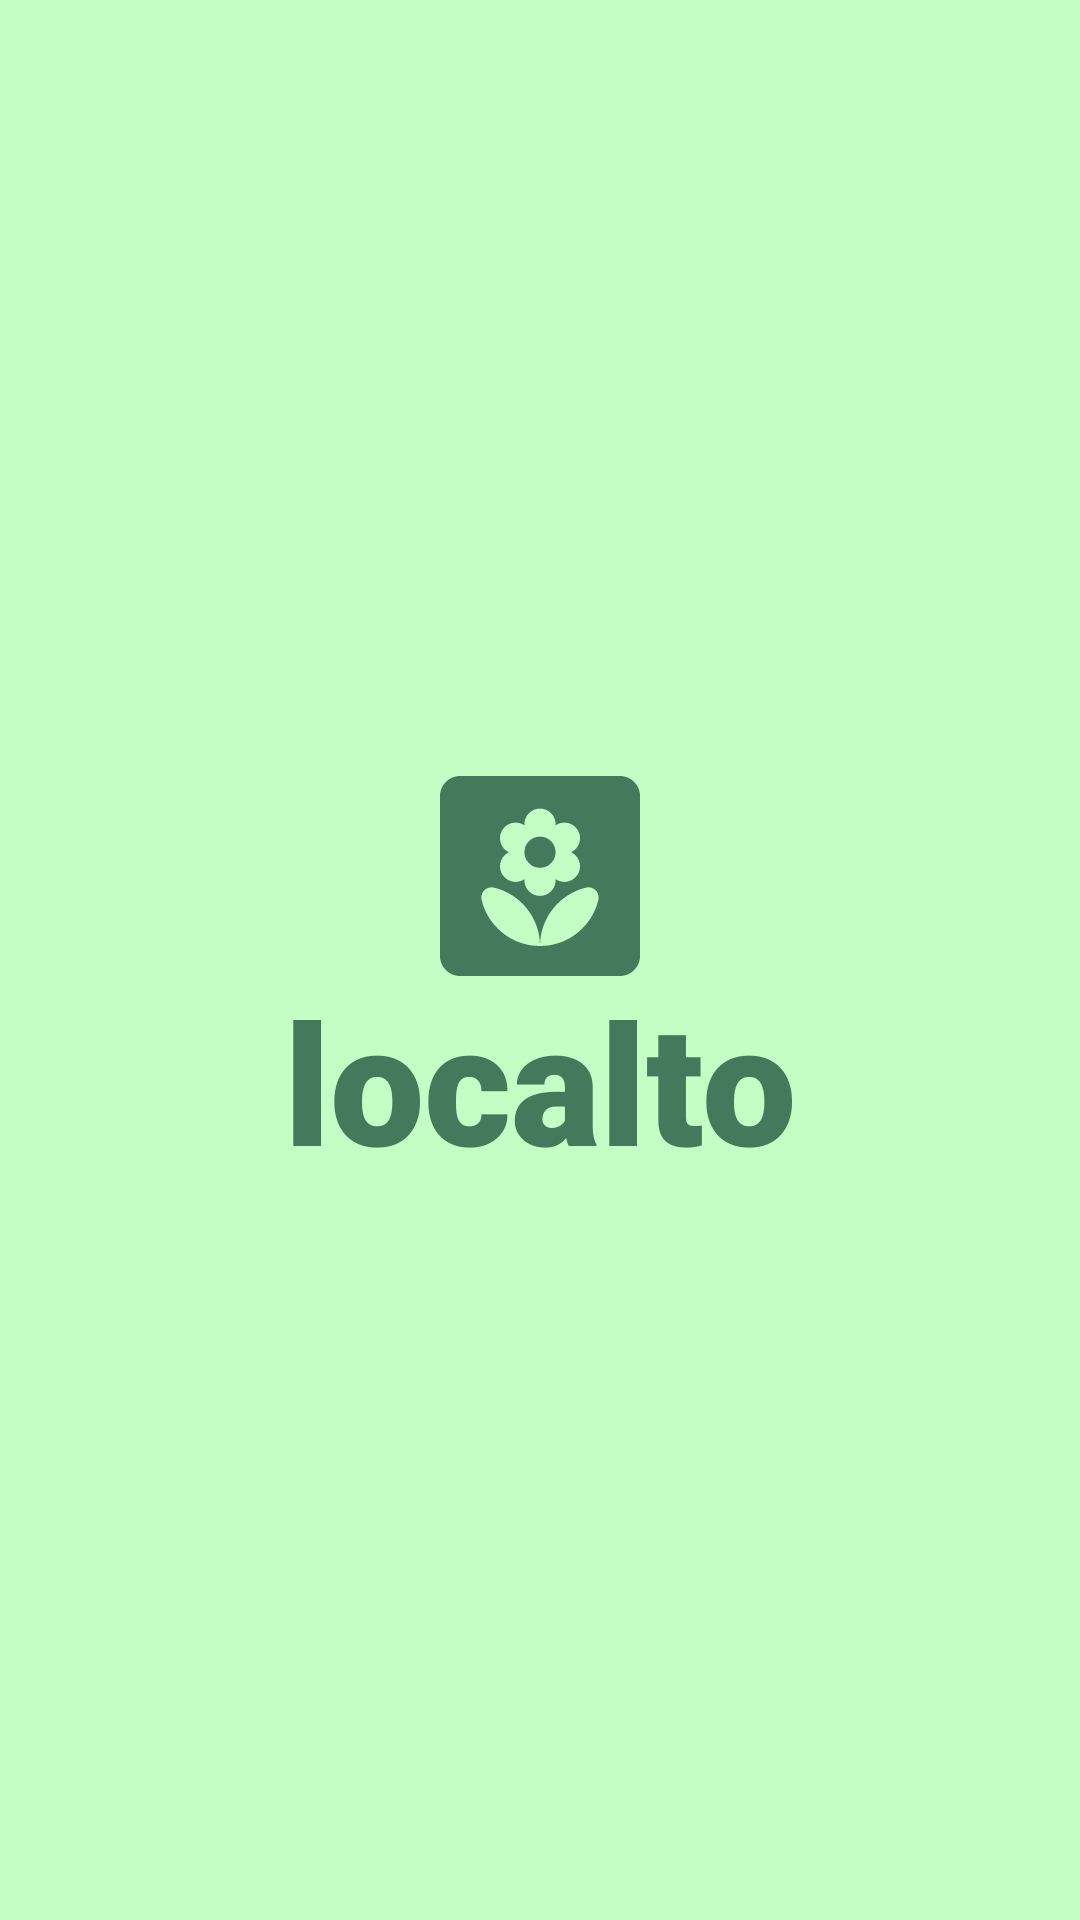

Icon click points for this 1080*1920 phone screenshot, format point (x, y):
yard: point (540, 876)
